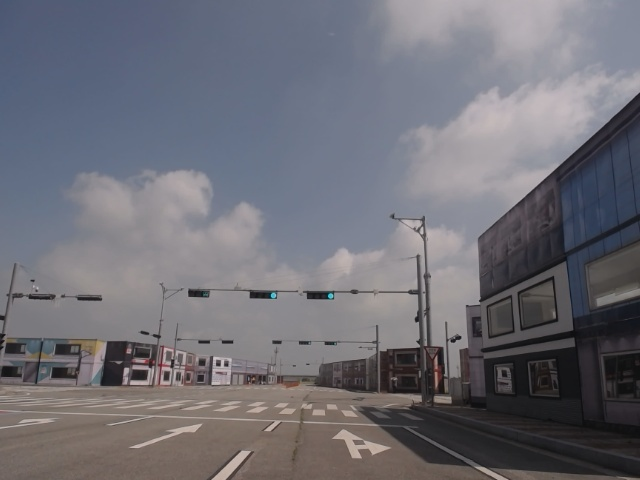straight_green_4: (308, 291, 334, 301), (250, 289, 277, 298)
